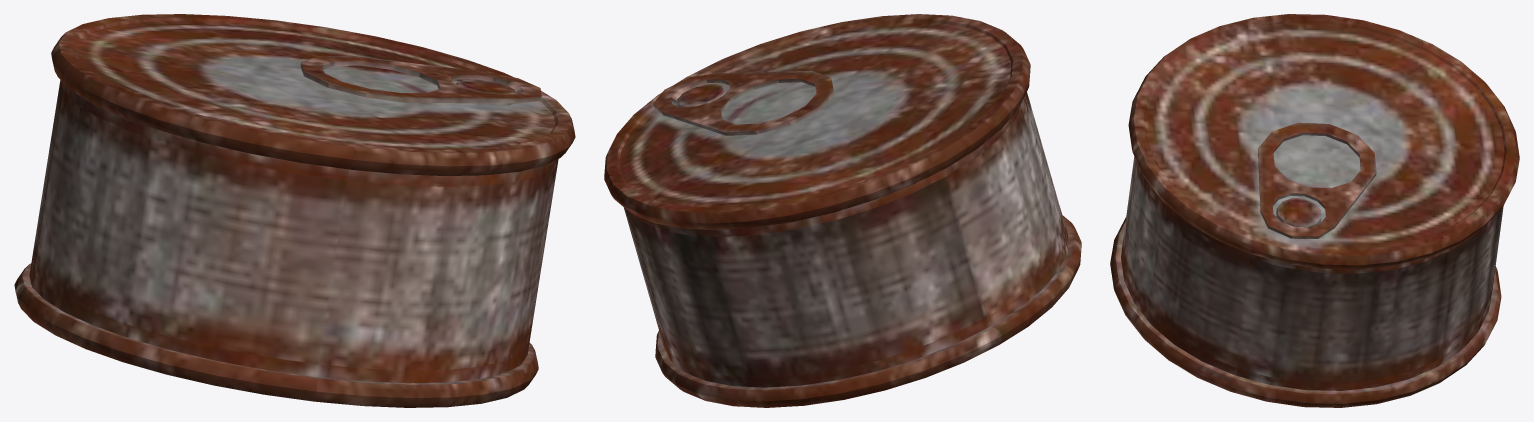
Rendered from sardinas.glb.
3 renders of one model, left to right at view 1: azimuth 30°, elevation 25°; view 2: azimuth 150°, elevation 25°; view 3: azimuth 270°, elevation 25°, orthographic. The views are drawn at different scales.
Parts seen in each view (by area): view 1: Can1_low_lable_0, Can1_low_Base_0; view 2: Can1_low_Base_0, Can1_low_lable_0; view 3: Can1_low_Base_0, Can1_low_lable_0.
Boxes of the visible parts, x1,y1,x2,y2 form: Can1_low_lable_0: [31, 80, 558, 370]; Can1_low_Base_0: [14, 14, 575, 407]; Can1_low_Base_0: [604, 14, 1081, 407]; Can1_low_lable_0: [624, 92, 1065, 377]; Can1_low_Base_0: [1110, 14, 1519, 407]; Can1_low_lable_0: [1122, 157, 1503, 383].
Size of the model in its own units: 1 by 0.6789 by 0.9656.
2 materials, 2 textured.
